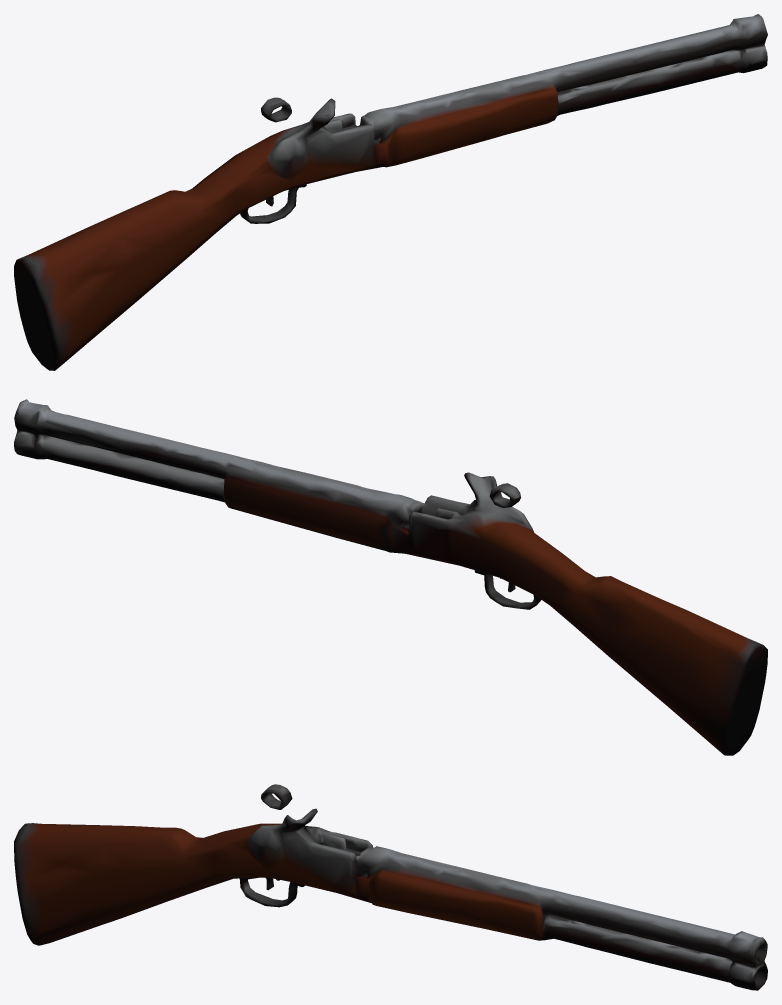
File: gen3d-musket-lod0.glb
The picture shows the model from 3 angles, top to bottom: view 1: azimuth 30°, elevation 25°; view 2: azimuth 150°, elevation 25°; view 3: azimuth 330°, elevation 25°; orthographic projection.
Parts seen in each view (by area): view 1: part_0; view 2: part_0; view 3: part_0.
Part boxes in pixels (left/top/right/bottom): part_0: left=14, top=14, right=767, bottom=370; part_0: left=14, top=399, right=767, bottom=755; part_0: left=14, top=784, right=767, bottom=990.
Size of the model in its own units: 3.64 by 1 by 0.3066.
